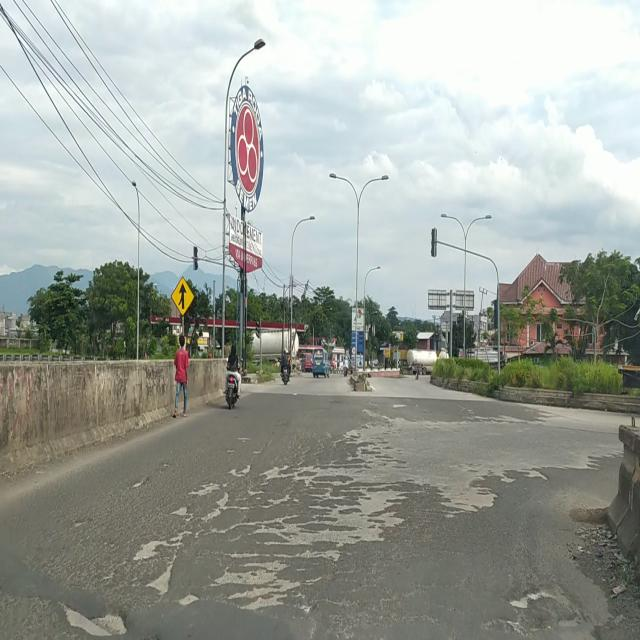Drain Hole: (161, 460, 396, 607)
